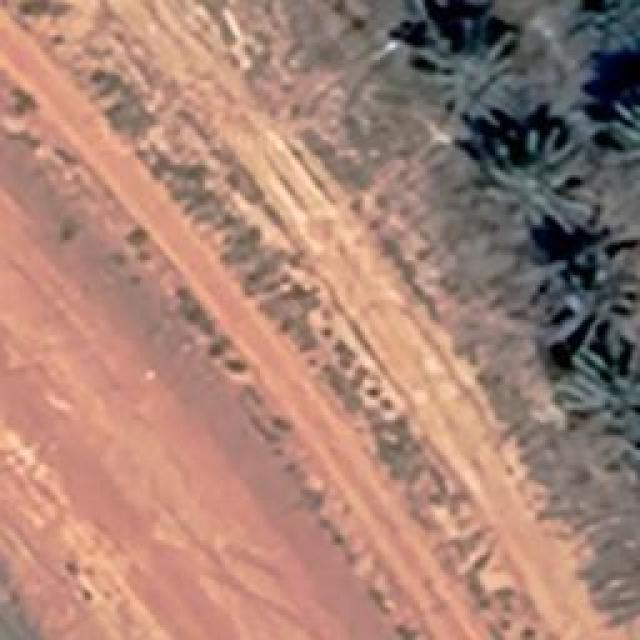PalmTree: (70, 88, 605, 400), (50, 24, 615, 88), (460, 120, 600, 230), (420, 17, 538, 125), (542, 245, 638, 345), (600, 90, 638, 170), (364, 0, 466, 23)
